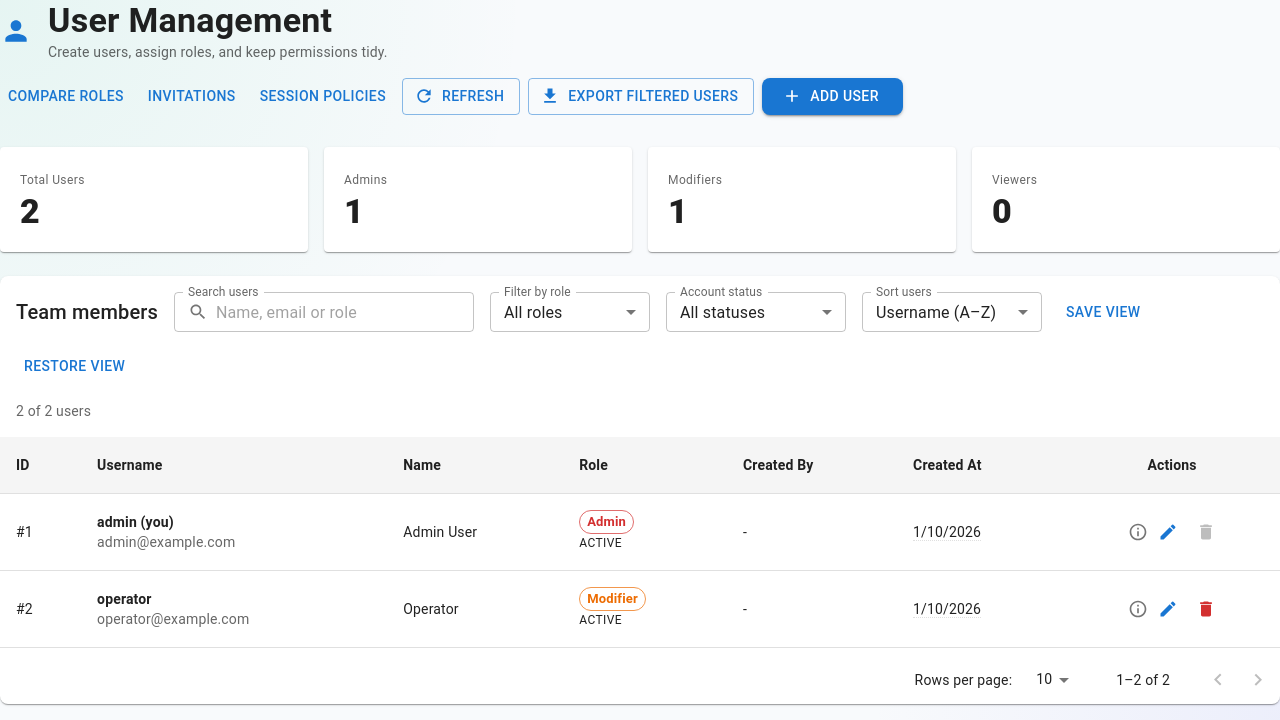
Test: User Management › preserves the password when editing and locks the form while saving
The width and height of the screenshot is (1280, 720).
Click the button named "Edit operator" at (1168, 609), box [1153,594,1183,624]
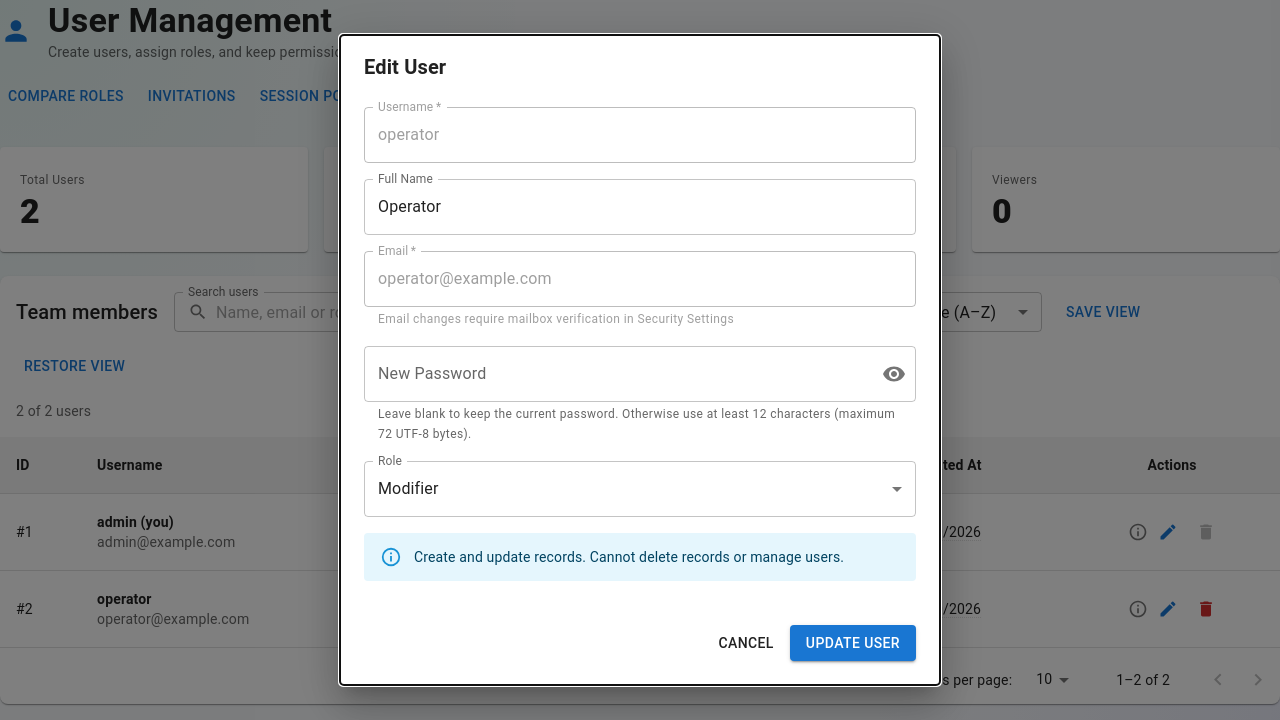
Replace the text in the field labelled "Full Name" with "Updated Operator" at (640, 207), box [364,179,916,235]
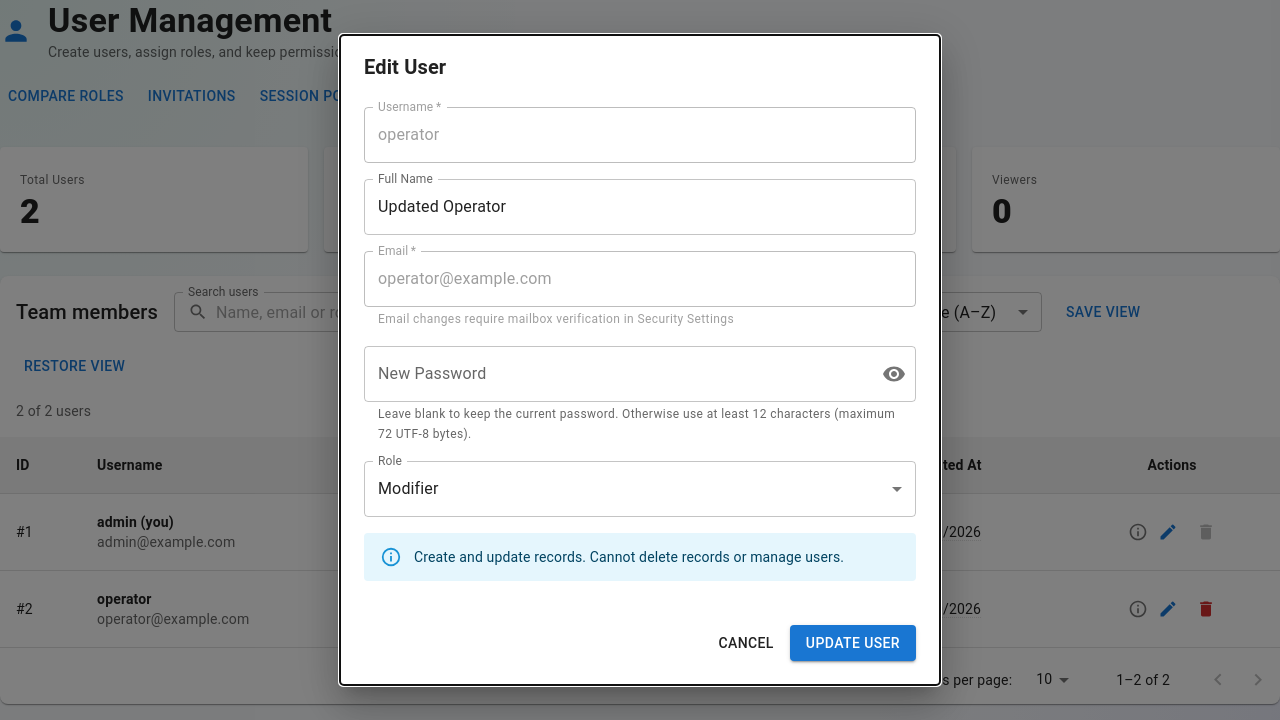
Click the button "Update User" at (853, 643), box [790,625,916,661]
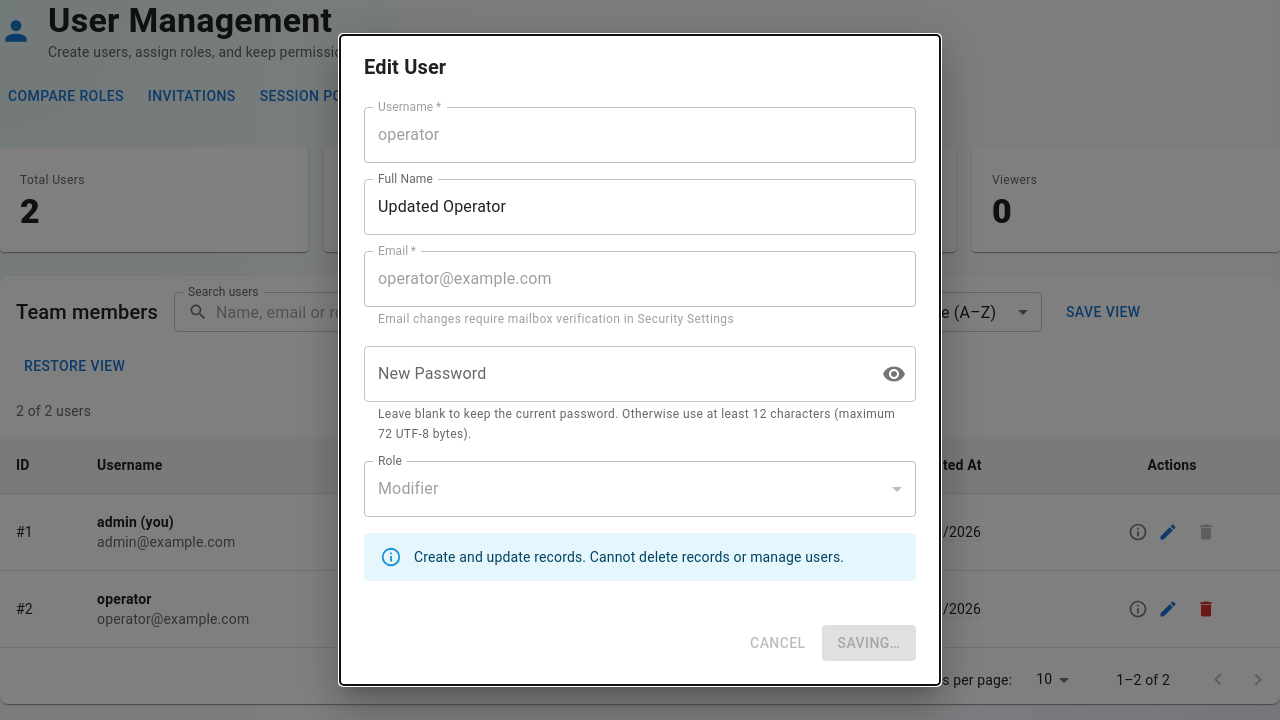
Expected: the field labelled "Full Name" is disabled, [364,179,916,235]
Expected: the button "Saving…" is disabled, [822,625,916,661]
Expected: the button "Cancel" is disabled, [742,625,814,661]
